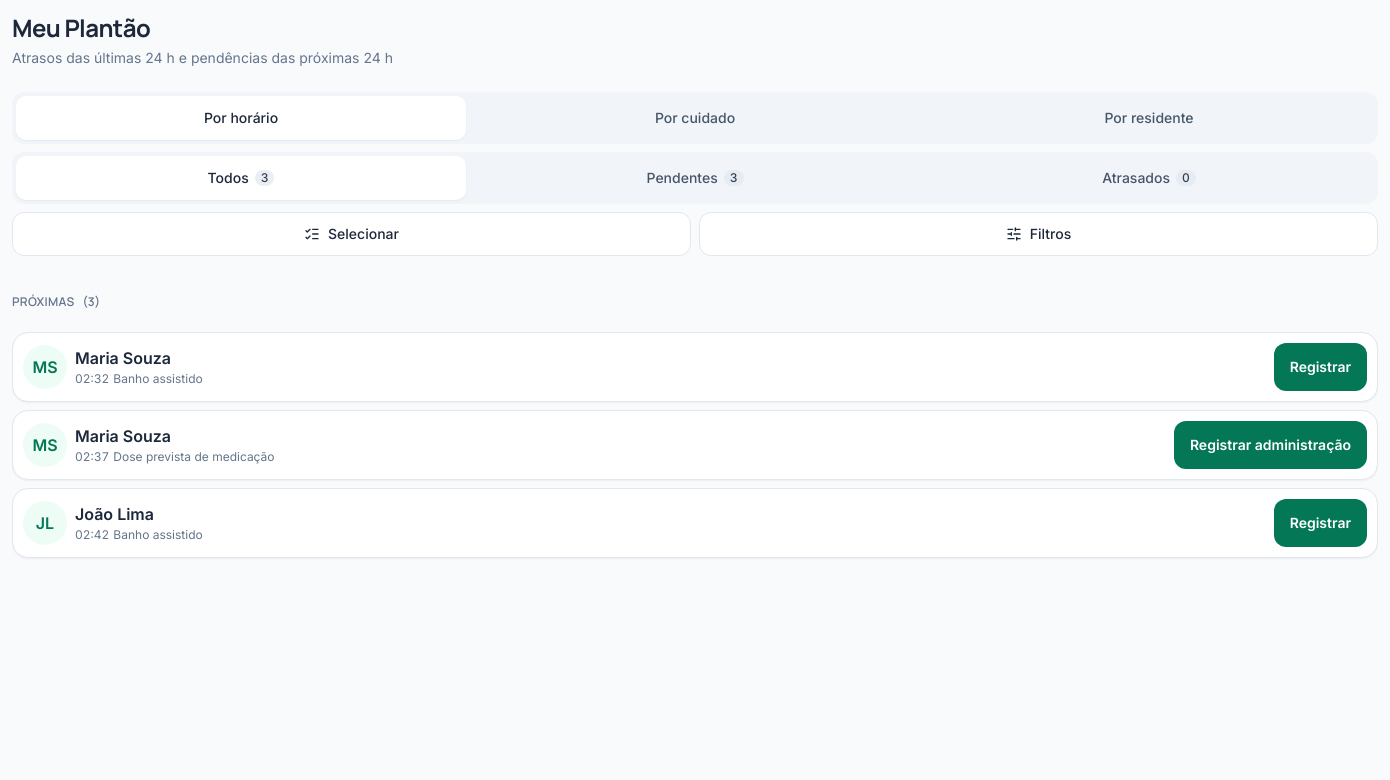
Test case: UX-01B — seleção múltipla › só cuidados viram marcáveis; medicação não, e Registrar some no modo seleção
Step 1. Click the button "Selecionar" → click(352, 234), box [12, 212, 691, 256]
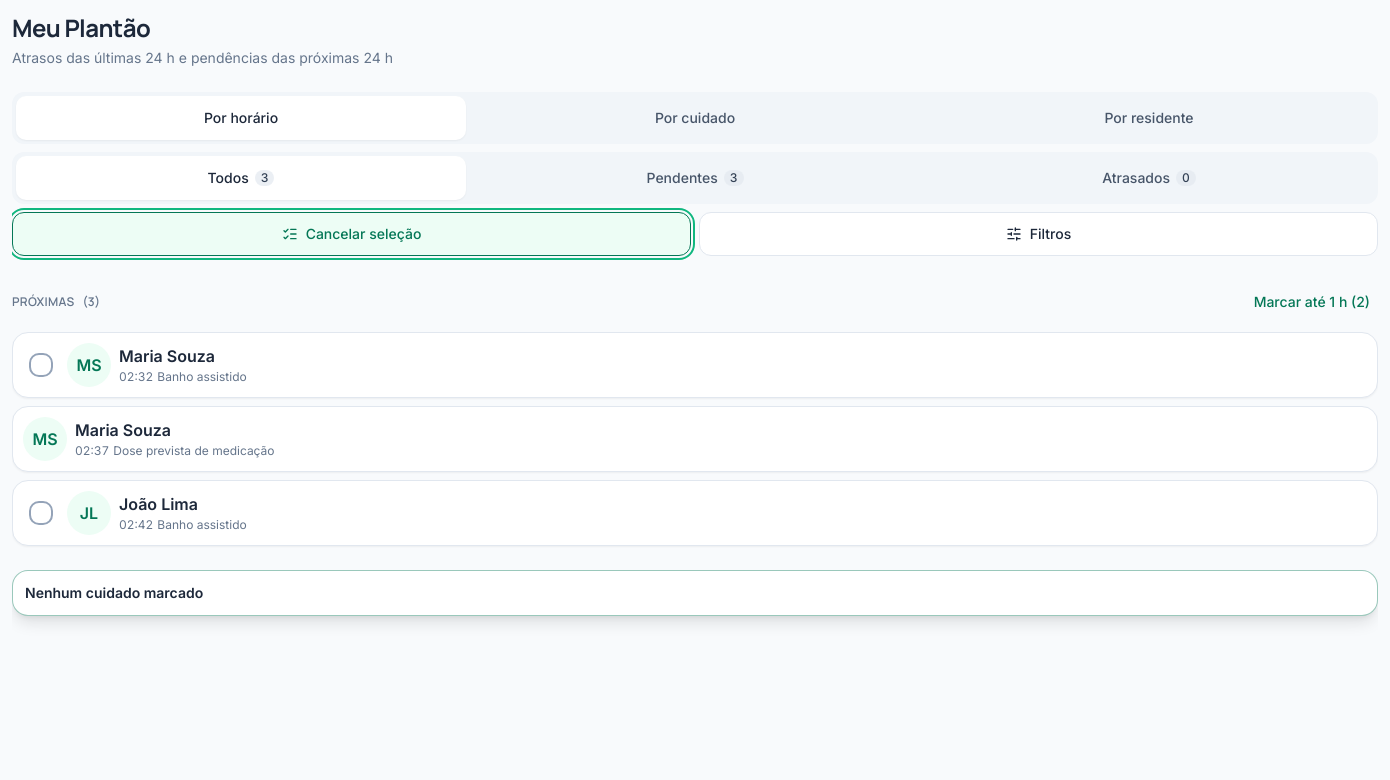
Expected: the number of checkboxes is 2, [19, 343, 63, 387]; [19, 491, 63, 535]
Expected: the button "Registrar" is gone
Expected: the button "Registrar administração" is gone
